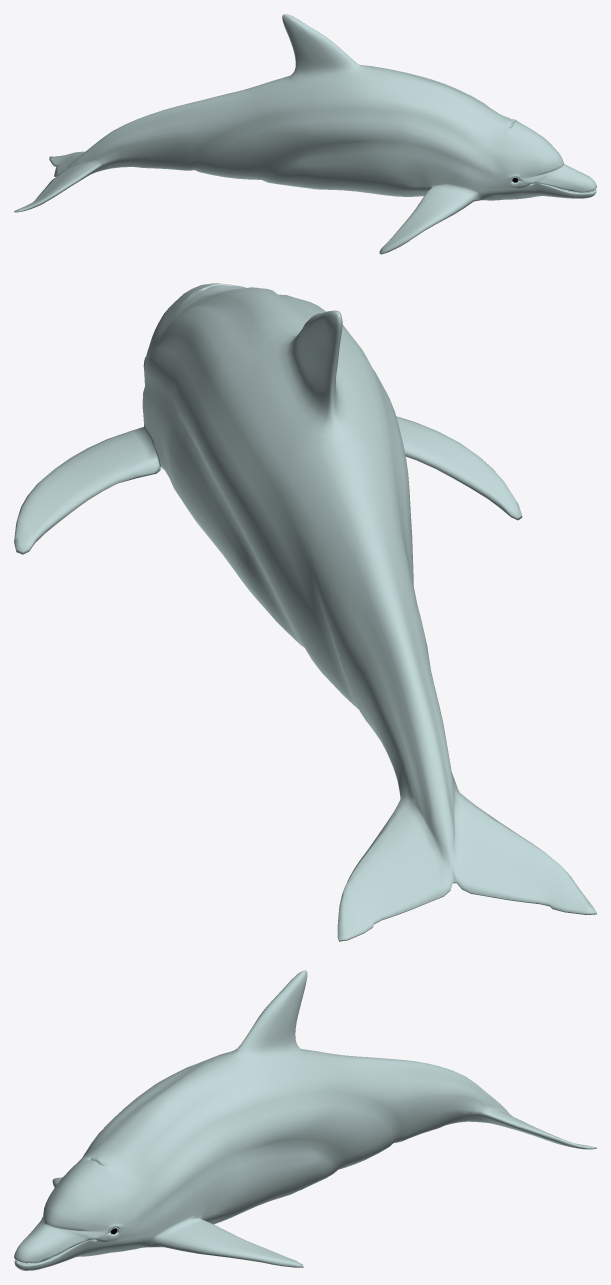
File: dolphin_000016.obj
3 views of the same model, one above another, from view 1: azimuth 30°, elevation 25°; view 2: azimuth 150°, elevation 25°; view 3: azimuth 270°, elevation 25° (orthographic). The views are drawn at different scales.
Visible parts, largest first — view 1: Dolphin; view 2: Dolphin; view 3: Dolphin.
Boxes of the visible parts, left/top/right/bottom form: Dolphin: left=14, top=14, right=596, bottom=254; Dolphin: left=14, top=283, right=596, bottom=941; Dolphin: left=14, top=970, right=596, bottom=1270.
Bounding box in the file's own units: 5.52 × 2.66 × 5.6.
